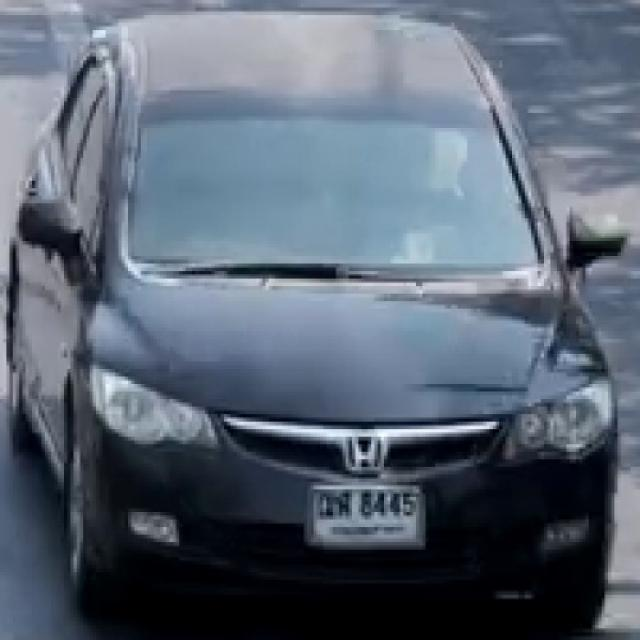plate: (316, 487, 423, 547)
